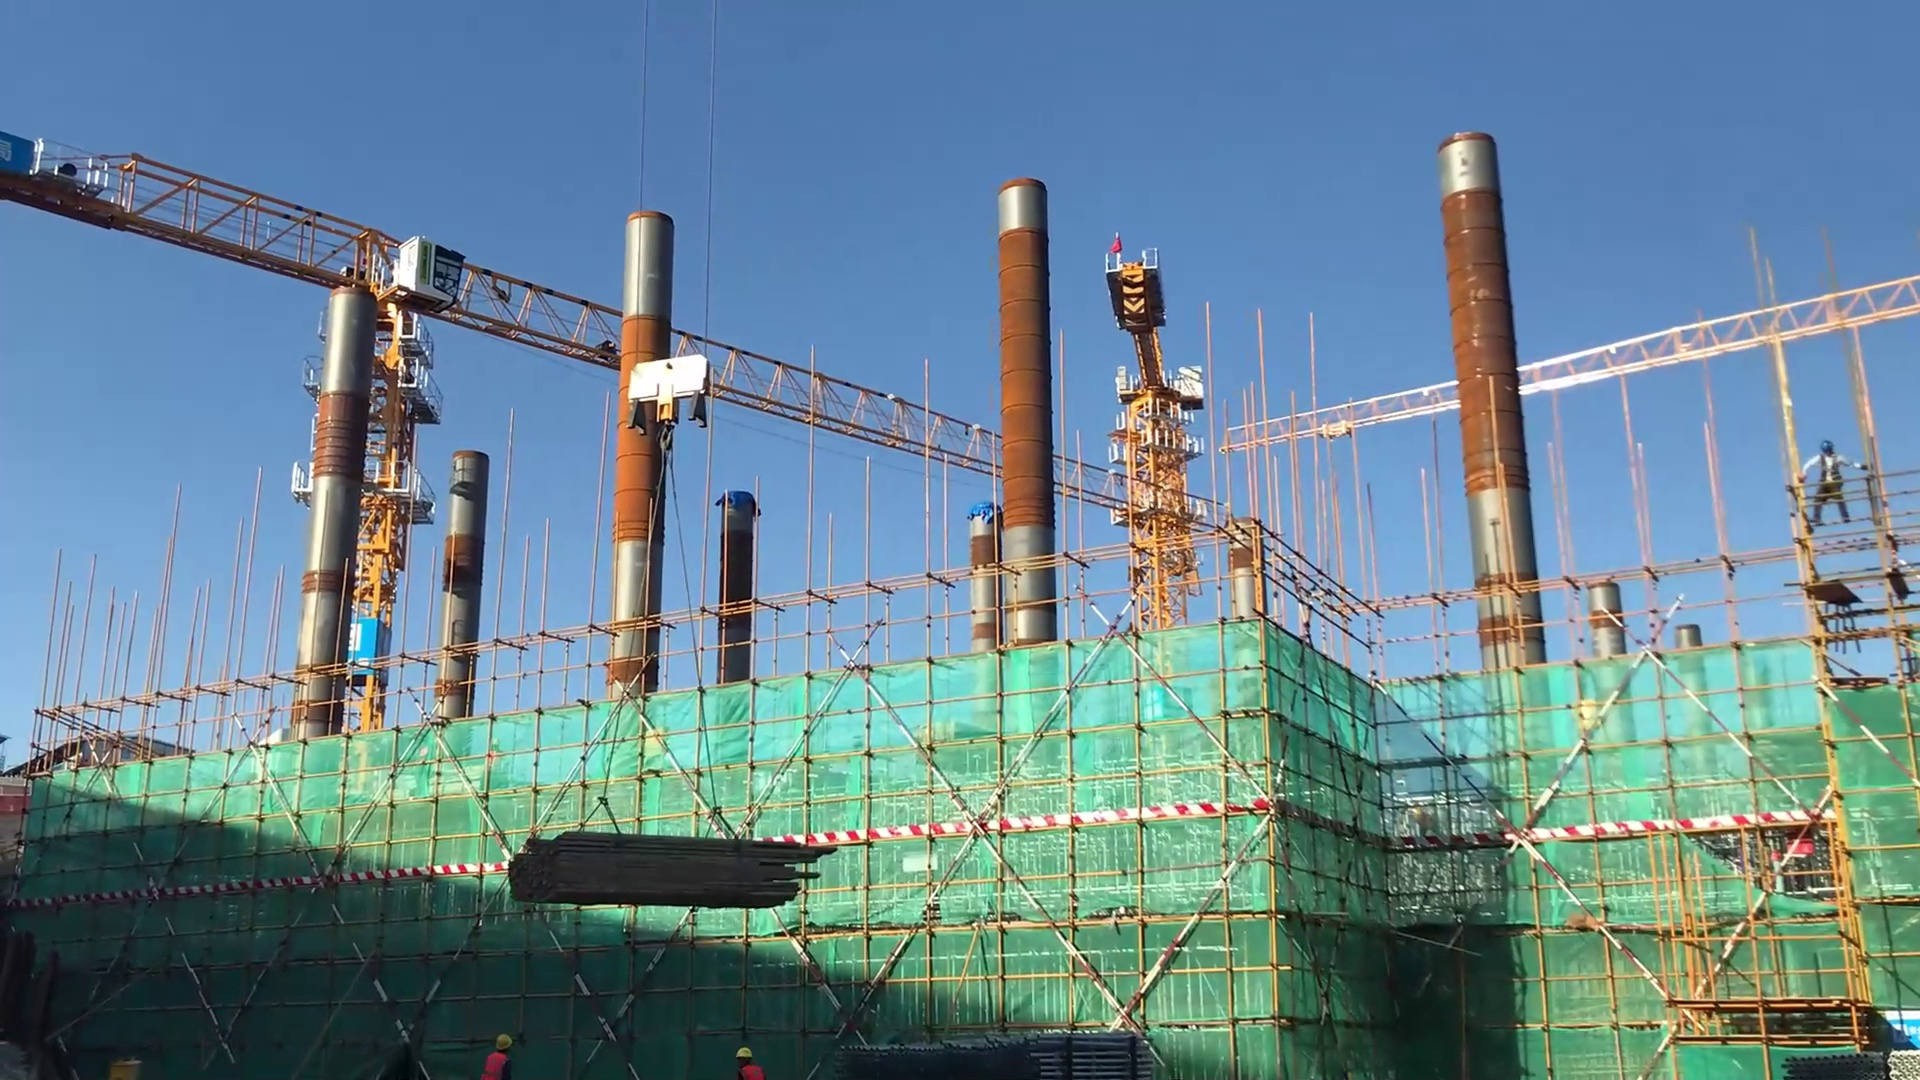helmet: (1814, 434, 1838, 449), (494, 1035, 513, 1052), (733, 1047, 755, 1060)
hook: (620, 341, 709, 448)
person: (1792, 437, 1865, 527), (479, 1027, 514, 1080), (728, 1047, 764, 1080)
vest: (1807, 452, 1845, 498), (480, 1050, 507, 1080), (737, 1063, 764, 1080)
wood: (503, 826, 825, 904)
